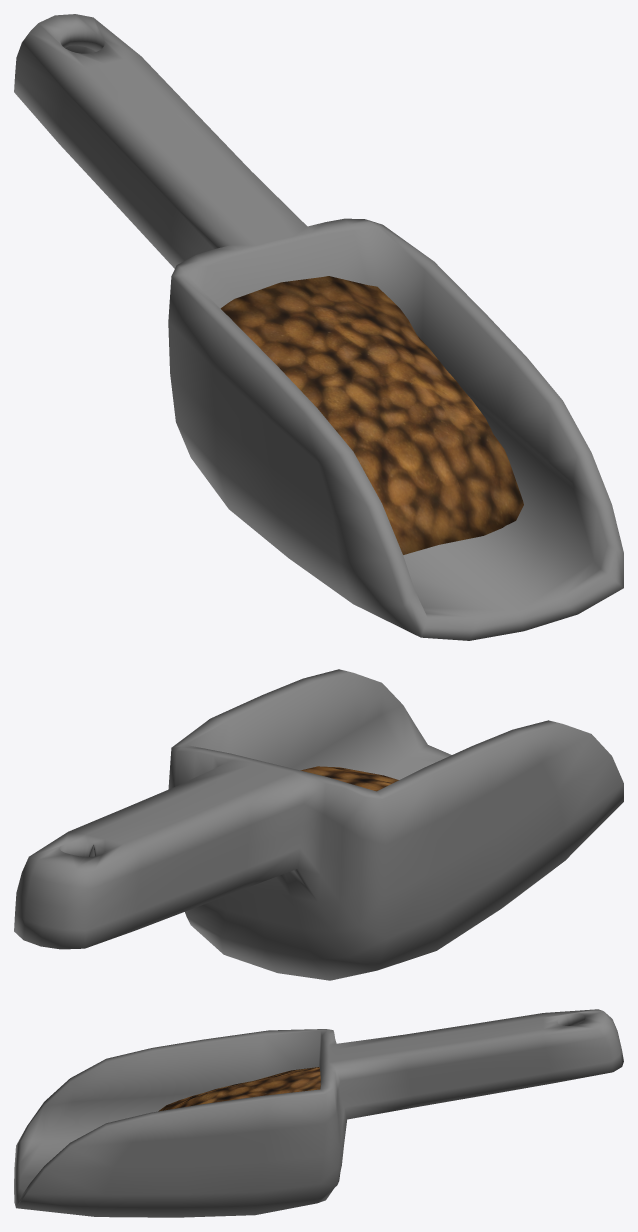
The model's file is Scoop.fbx.
3 renders of one model, top to bottom at view 1: azimuth 30°, elevation 25°; view 2: azimuth 150°, elevation 25°; view 3: azimuth 270°, elevation 25°, orthographic. The views are drawn at different scales.
Parts seen in each view (by area): view 1: Scoop, Cube; view 2: Scoop, Cube; view 3: Scoop, Cube.
Part boxes in pixels (x1,y1,x2,y2): Scoop: (14, 14, 623, 640); Cube: (220, 276, 523, 554); Scoop: (14, 669, 623, 980); Cube: (300, 766, 398, 791); Scoop: (14, 1009, 623, 1217); Cube: (158, 1067, 320, 1111).
Bounding box in the file's own units: 200 × 232 × 747.
2 materials, 1 textured.
